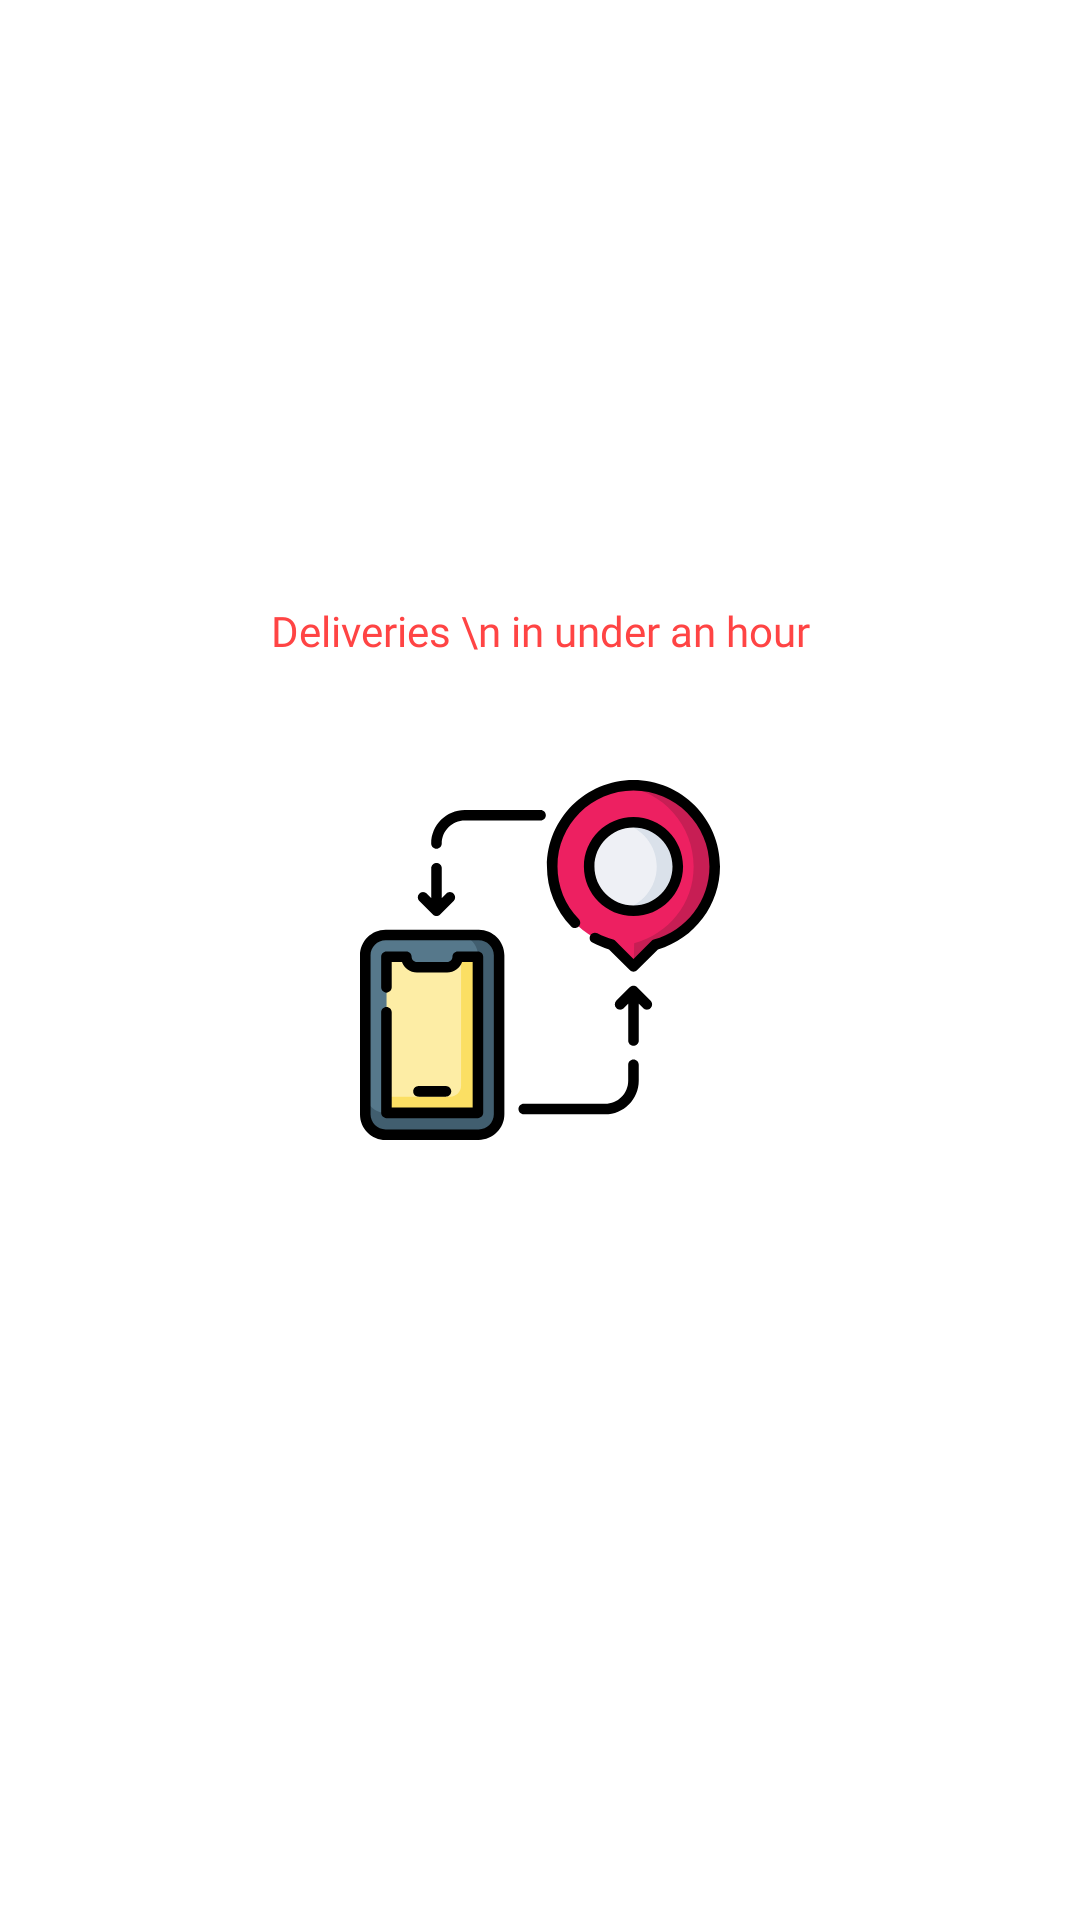

Icon click points for this 1080x1920 phone screenshot, format (x,y):
delivery: (540,960)
